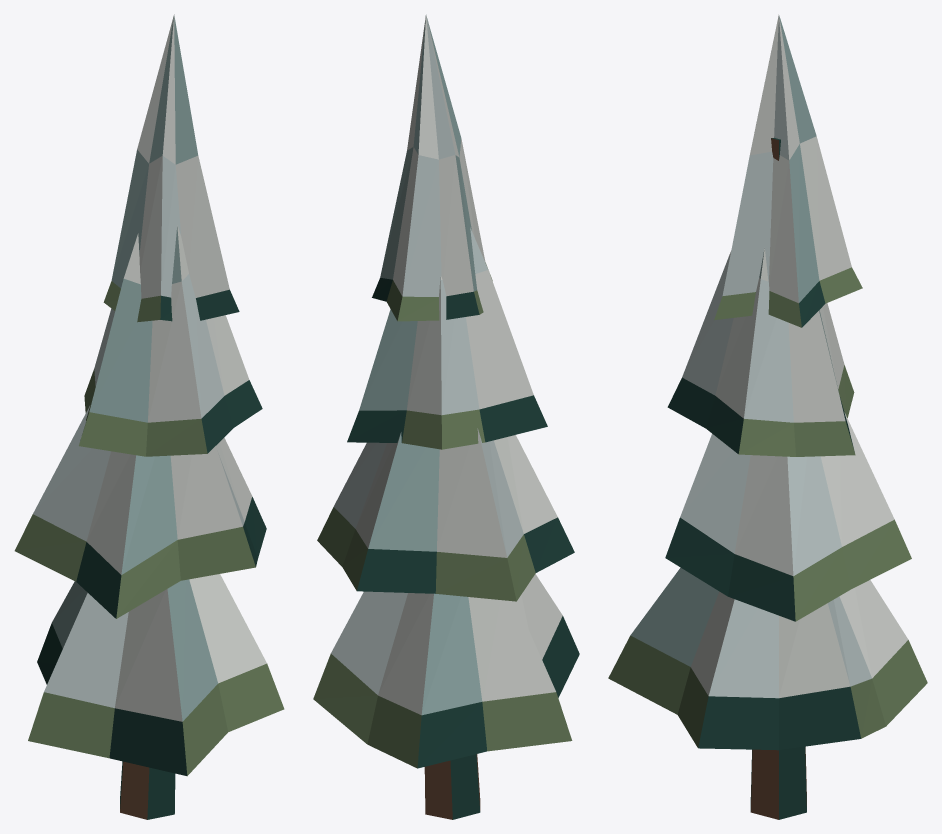
File: larch.glb
3 renders of one model, left to right at view 1: azimuth 30°, elevation 25°; view 2: azimuth 150°, elevation 25°; view 3: azimuth 270°, elevation 25°, orthographic. The views are drawn at different scales.
Parts seen in each view (by area): view 1: larch; view 2: larch; view 3: larch.
Part boxes in pixels (x1,y1,x2,y2): larch: (14, 14, 284, 819); larch: (313, 14, 579, 819); larch: (608, 14, 927, 819).
Size of the model in its own units: 1.71 by 5.21 by 1.87.
